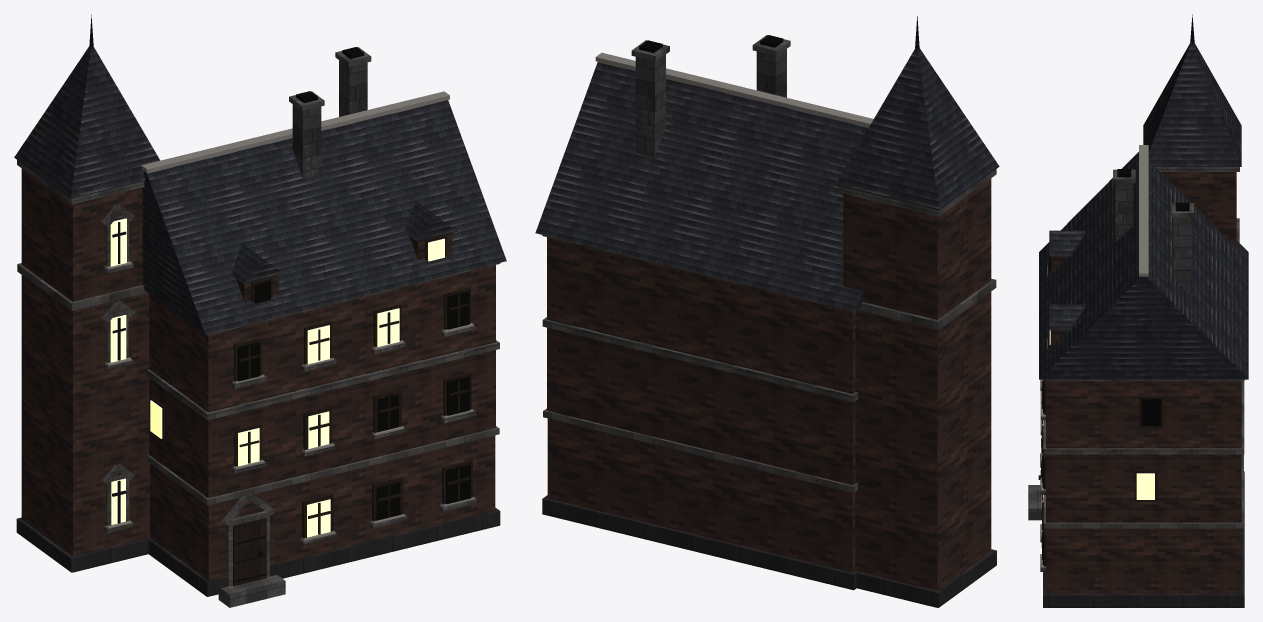
File: CasaB08.gltf
3 views of the same model, side by side, from view 1: azimuth 30°, elevation 25°; view 2: azimuth 150°, elevation 25°; view 3: azimuth 270°, elevation 25° (orthographic). The views are drawn at different scales.
Parts seen in each view (by area): view 1: CasaB08; view 2: CasaB08; view 3: CasaB08.
Boxes of the visible parts, x1,y1,x2,y2 form: CasaB08: (14,14,506,607); CasaB08: (535,16,999,607); CasaB08: (1028,14,1248,607).
Bounding box in the file's own units: 14.75 × 20.03 × 8.62.
Materials: 10 (6 with a texture image).
